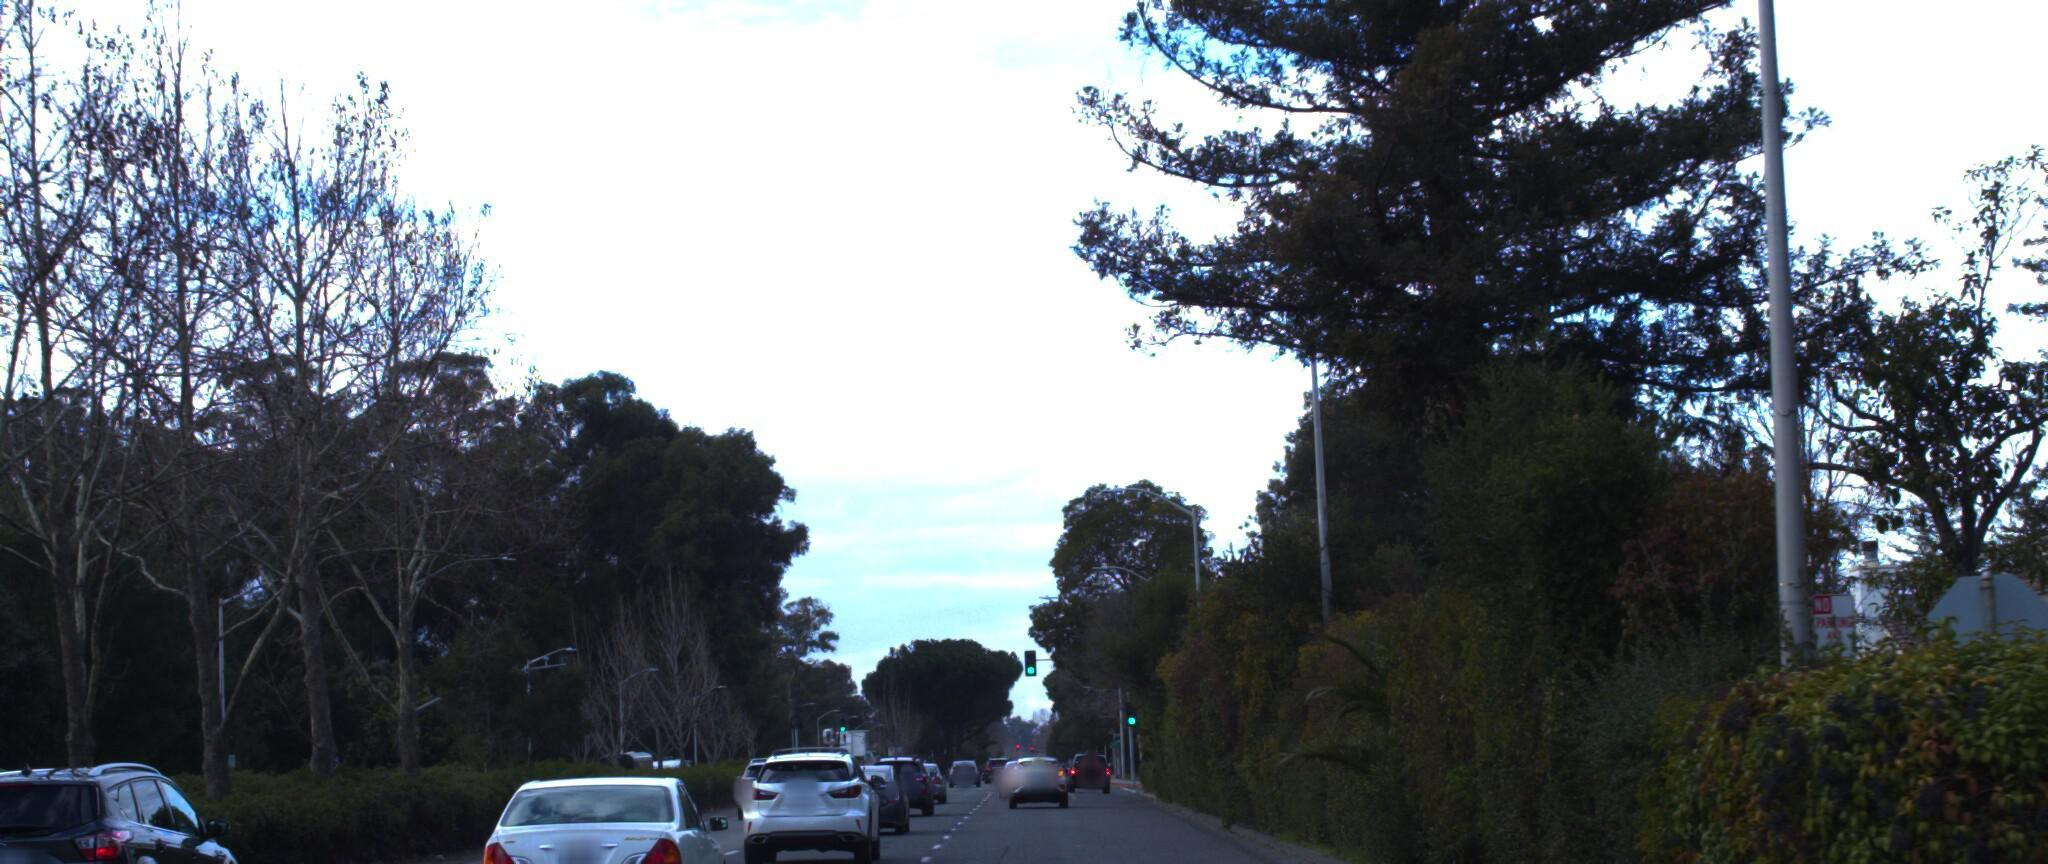car: (461, 719, 744, 864), (0, 735, 274, 864), (733, 735, 880, 859), (808, 754, 909, 834)
